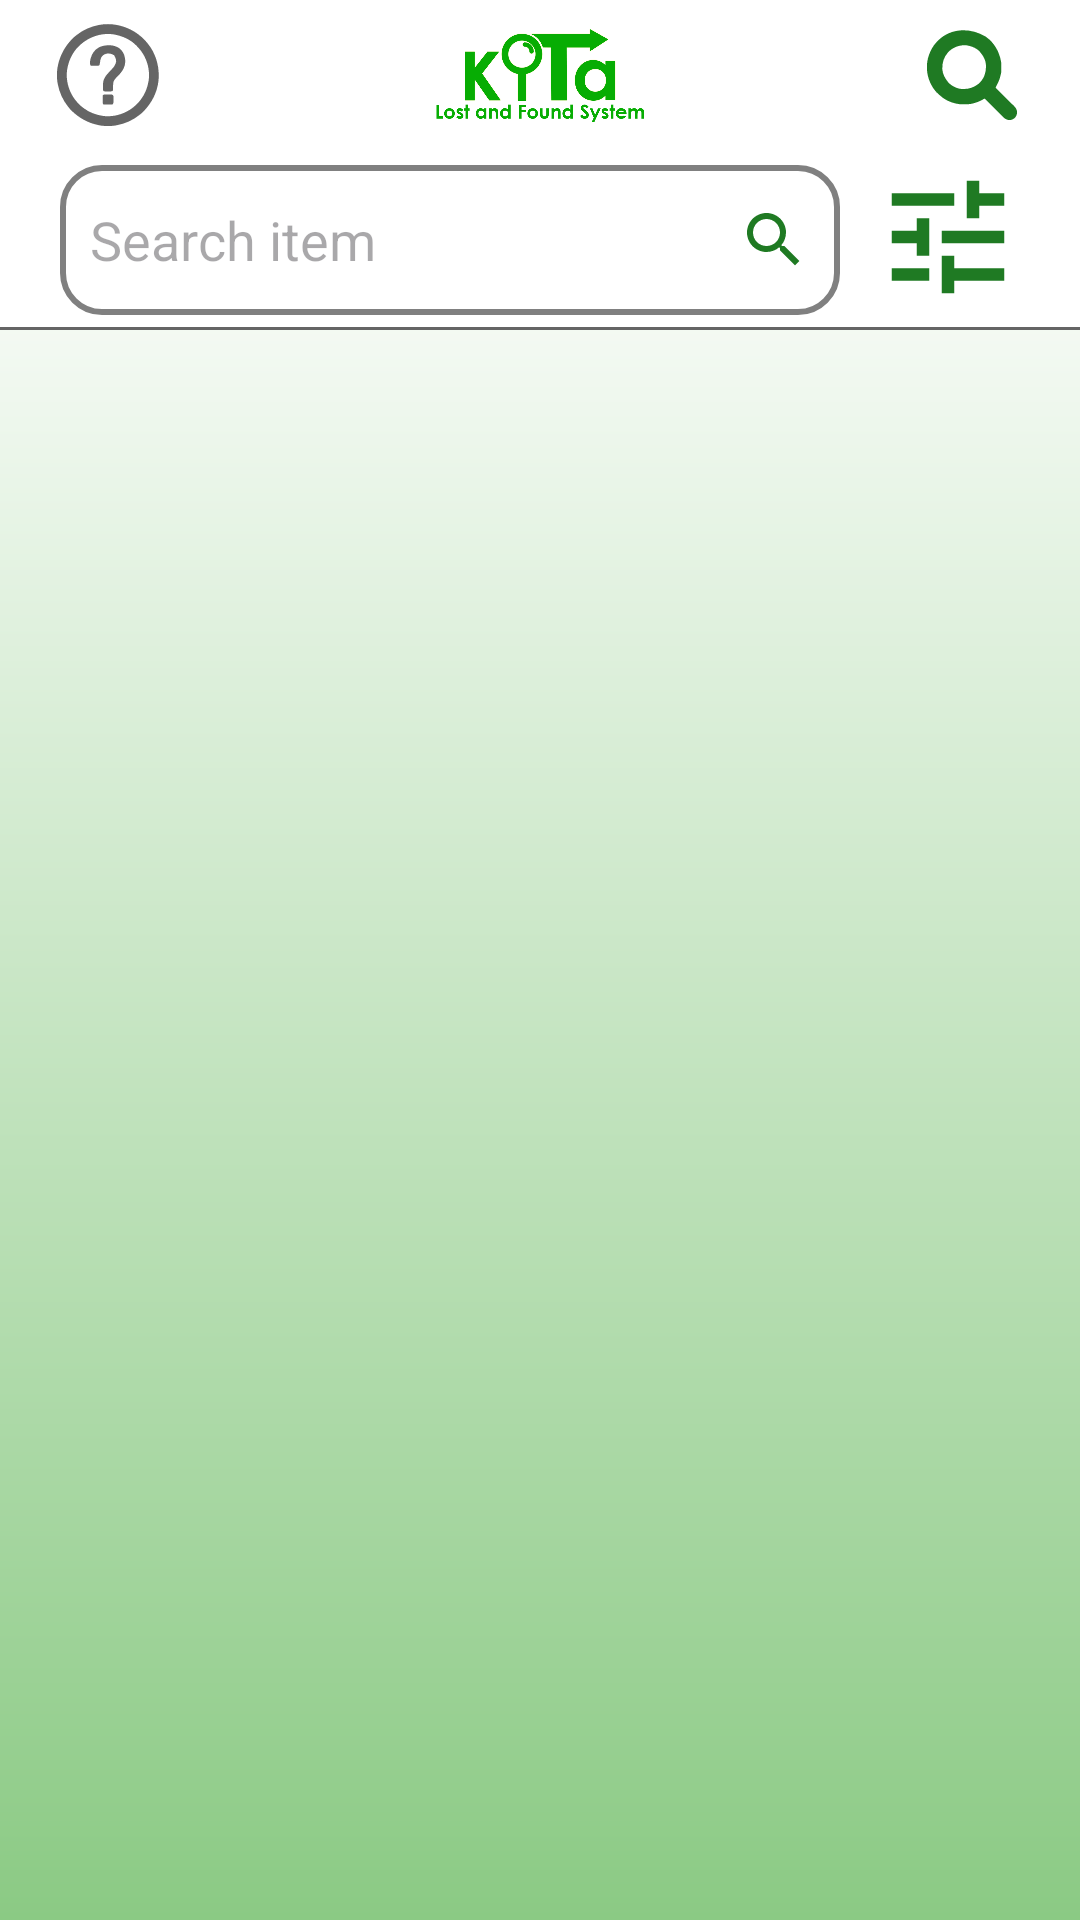

Screen size 1080px×1920px. Icon name, then its center in pixels as (x,y):
guide: (108,75)
searchfilter: (948,237)
